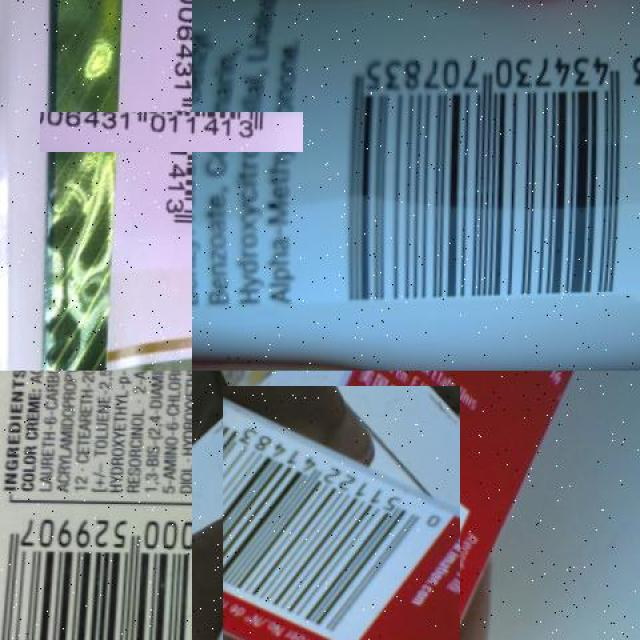Barcode: (325, 37, 640, 324), (214, 394, 468, 640), (0, 504, 192, 640), (95, 56, 248, 207)
